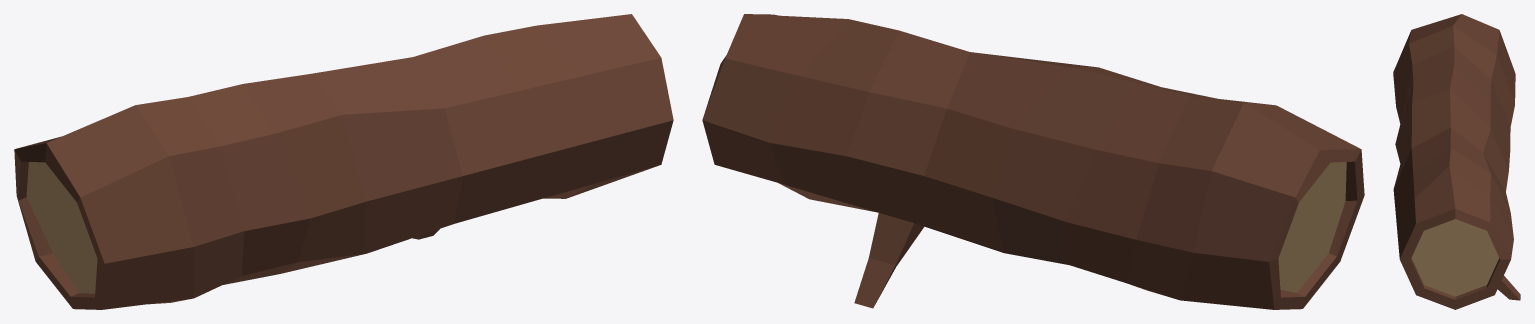
File: Log01.fbx
3 views of the same model, side by side, from view 1: azimuth 30°, elevation 25°; view 2: azimuth 150°, elevation 25°; view 3: azimuth 270°, elevation 25° (orthographic). The views are drawn at different scales.
Parts seen in each view (by area): view 1: Cylinder; view 2: Cylinder; view 3: Cylinder.
Boxes of the visible parts, left/top/right/bottom form: Cylinder: left=14, top=14, right=673, bottom=309; Cylinder: left=702, top=14, right=1364, bottom=309; Cylinder: left=1393, top=14, right=1520, bottom=309.
Bounding box in the file's own units: 178 × 71.43 × 50.14.
